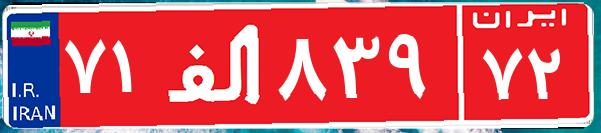1: (110, 28, 158, 105)
2: (525, 38, 570, 115)
3: (330, 28, 385, 110)
7: (57, 26, 110, 107), (475, 38, 525, 113)
8: (273, 28, 330, 110)
9: (385, 28, 445, 110)
الف: (158, 15, 273, 115)
